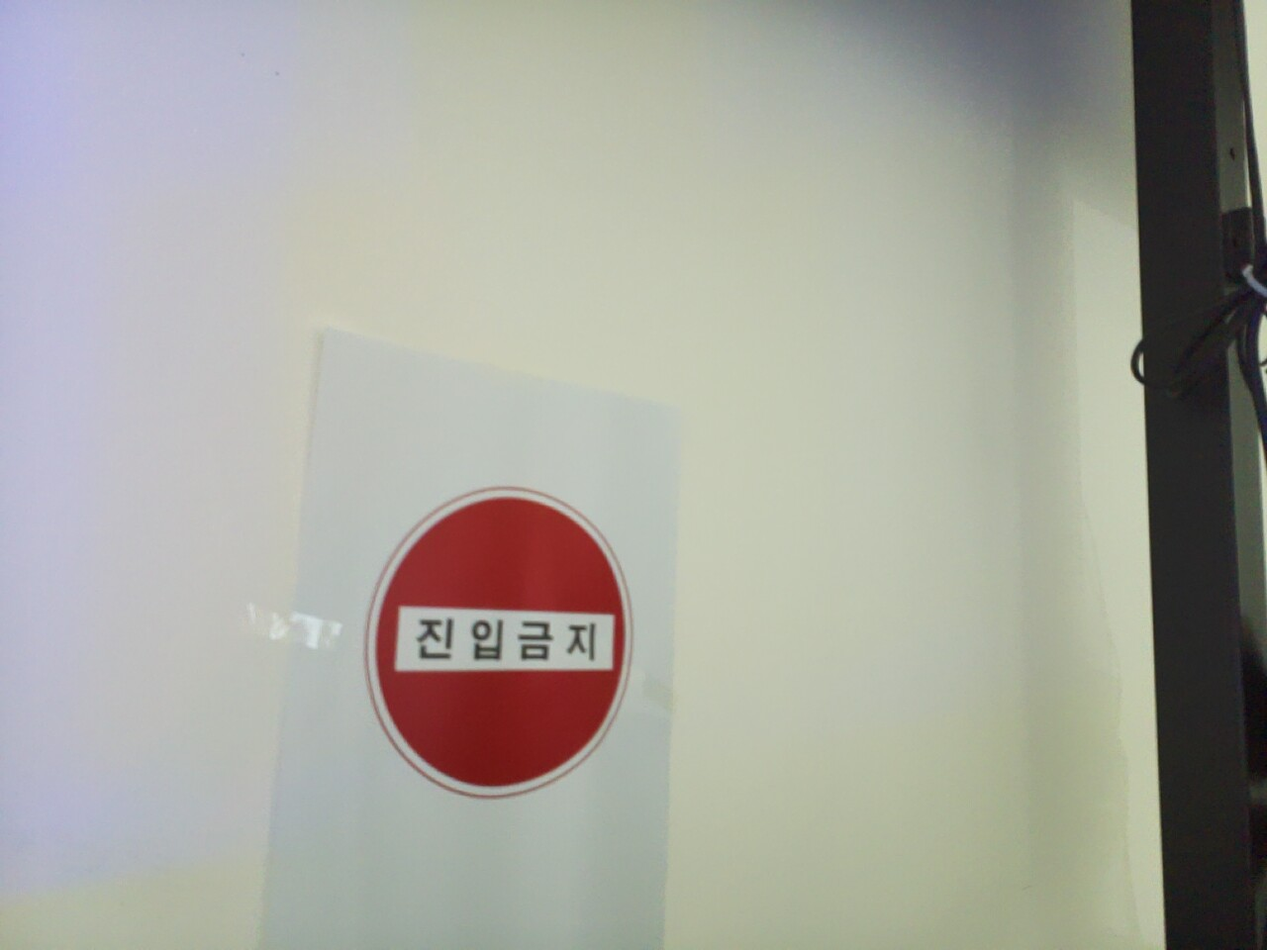do_not_enter: (366, 487, 634, 797)
